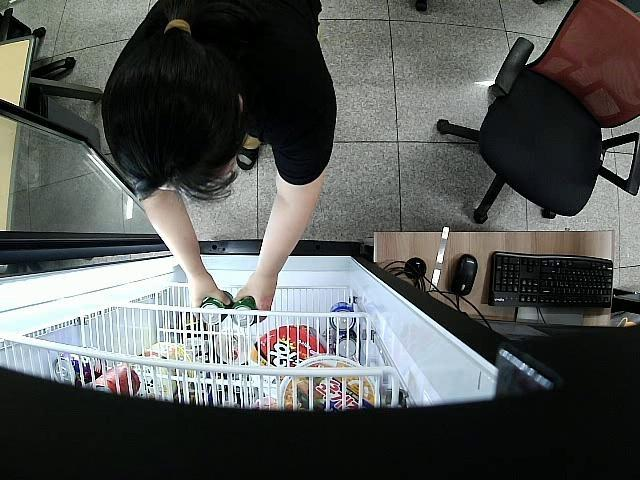12_chilsungCider: (199, 290, 232, 324), (234, 296, 258, 327)
